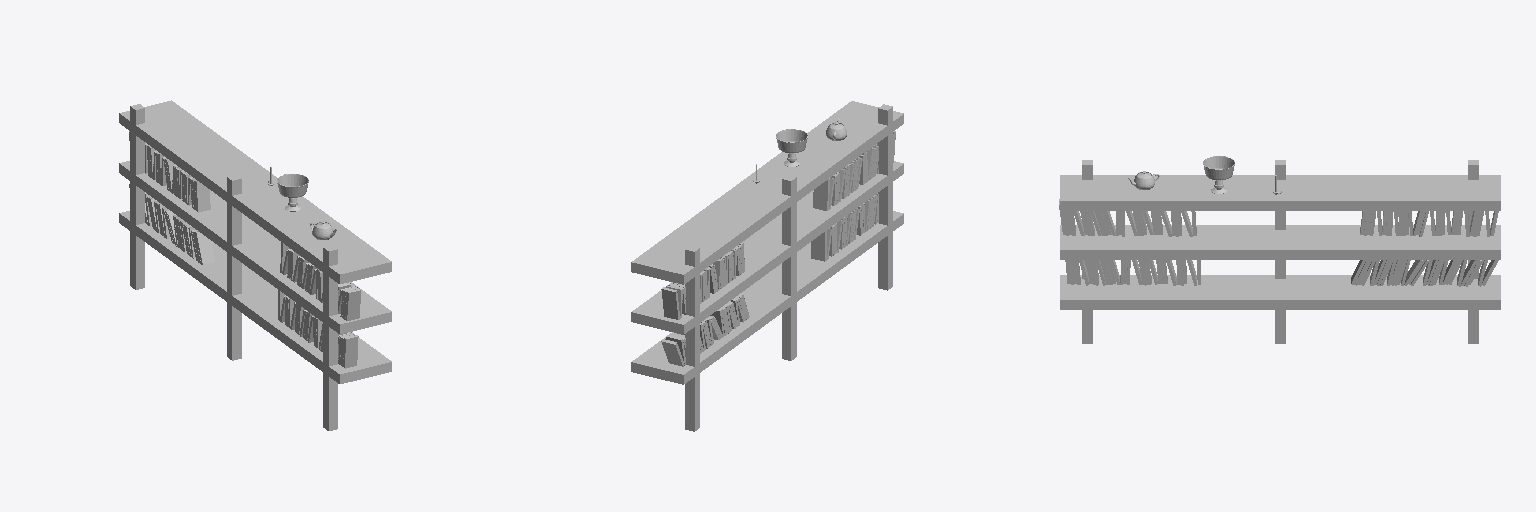
Rendered from Shelf.obj.
The picture shows the model from 3 angles: view 1: azimuth 30°, elevation 25°; view 2: azimuth 150°, elevation 25°; view 3: azimuth 270°, elevation 25°; orthographic projection.
Visible parts, largest first — view 1: Shelf, Books, Zarf; view 2: Shelf, Books, Zarf; view 3: Shelf, Books, Zarf.
Boxes of the visible parts, <box> form: Shelf: <box>119,100,391,430</box>; Books: <box>129,131,360,368</box>; Zarf: <box>277,174,308,211</box>; Shelf: <box>631,101,903,431</box>; Books: <box>661,131,895,366</box>; Zarf: <box>776,129,807,166</box>; Shelf: <box>1060,160,1500,343</box>; Books: <box>1059,199,1498,286</box>; Zarf: <box>1203,156,1234,193</box>.
Size of the model in its own units: 1.1 by 3.87 by 8.02.